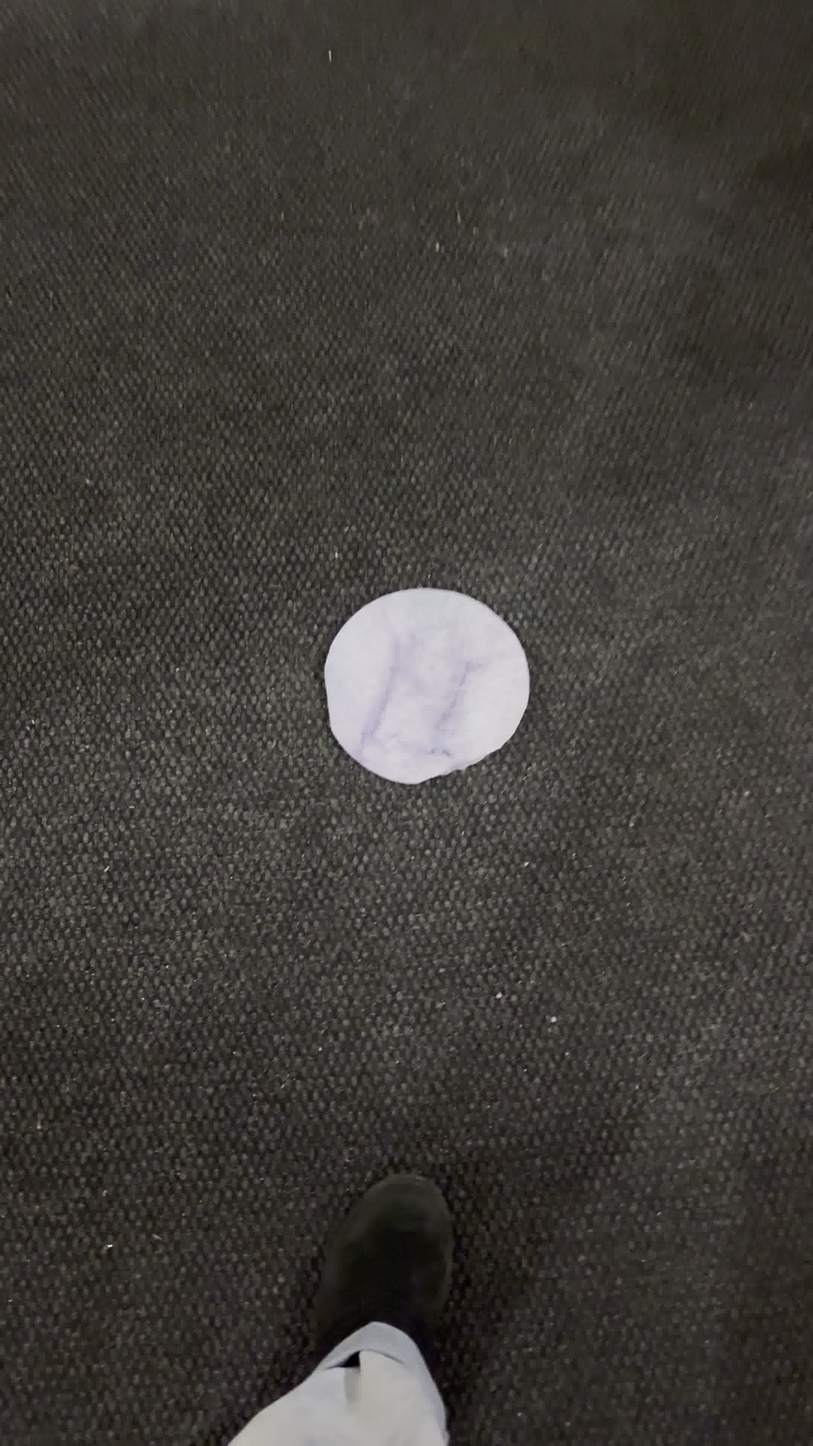Target: (320, 589, 529, 782)
